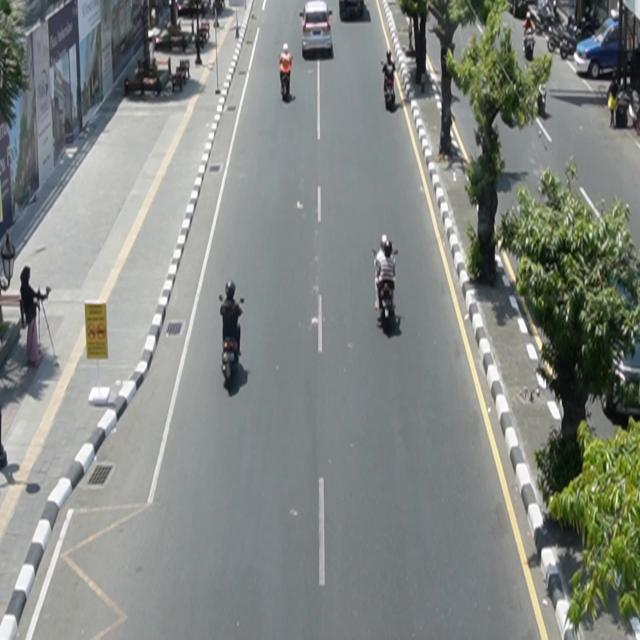car: (300, 1, 334, 59)
